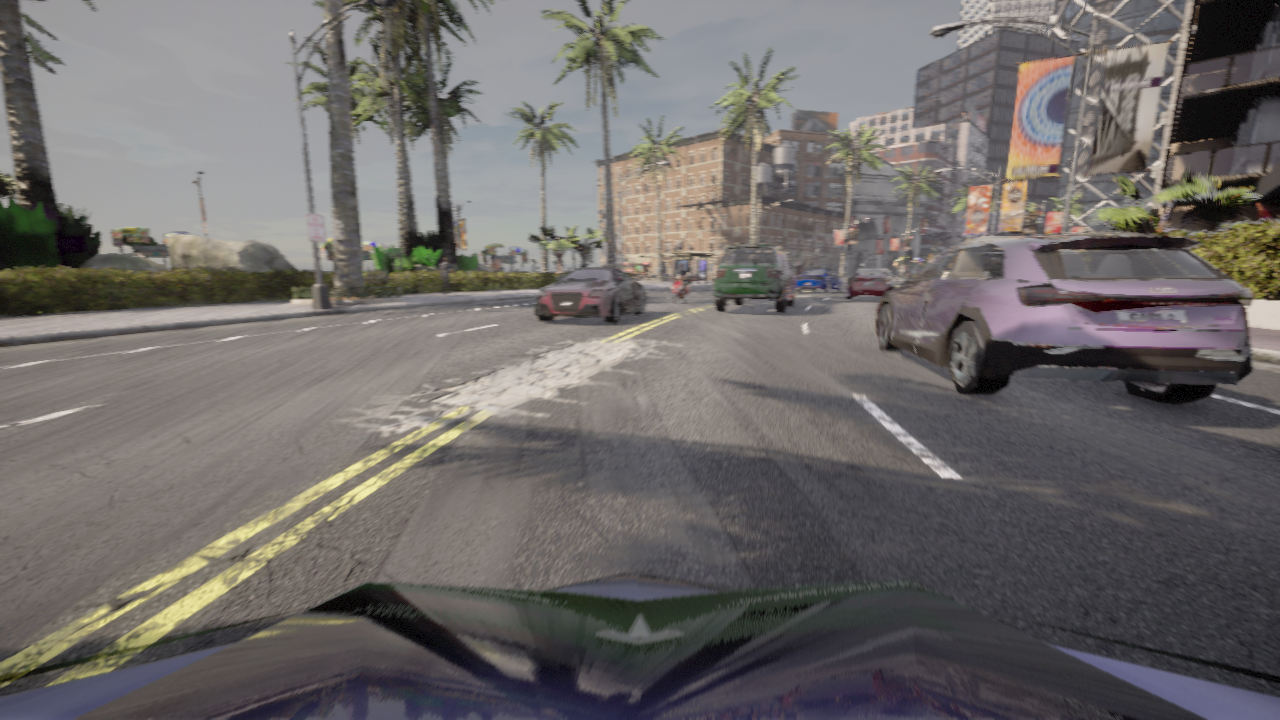cyclist: (0, 569, 1279, 719), (875, 231, 1252, 404), (535, 267, 646, 322), (712, 244, 797, 312), (845, 268, 897, 299), (796, 268, 843, 293), (669, 273, 689, 303)
pedestrian: (439, 257, 455, 294)
